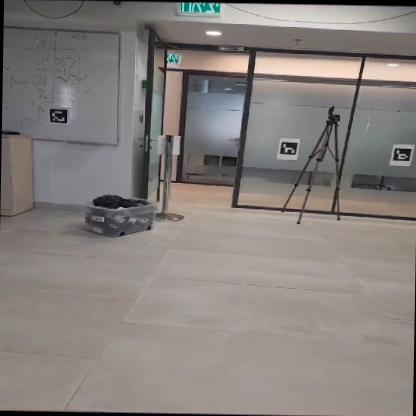open: (148, 66, 254, 214)
